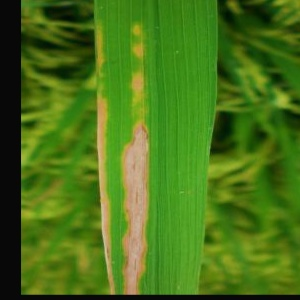Leaf_Blast: (91, 0, 217, 295)
